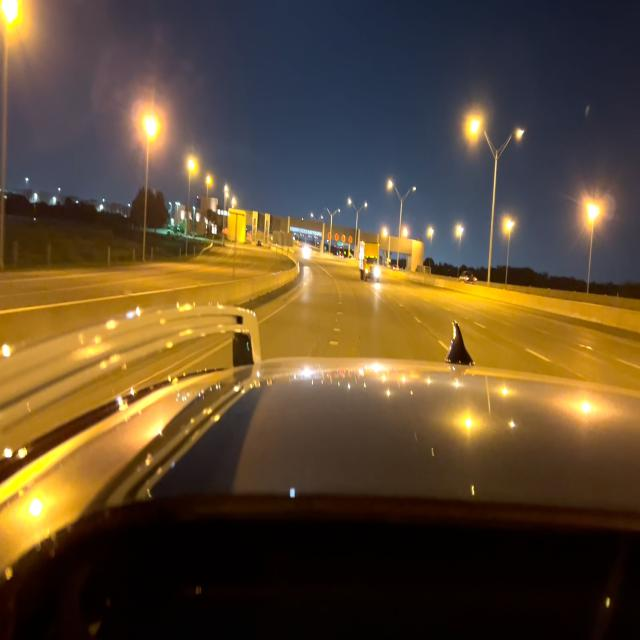back-of-sign: (228, 206, 245, 244)
